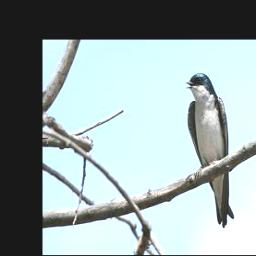Swallow: (185, 72, 235, 228)
